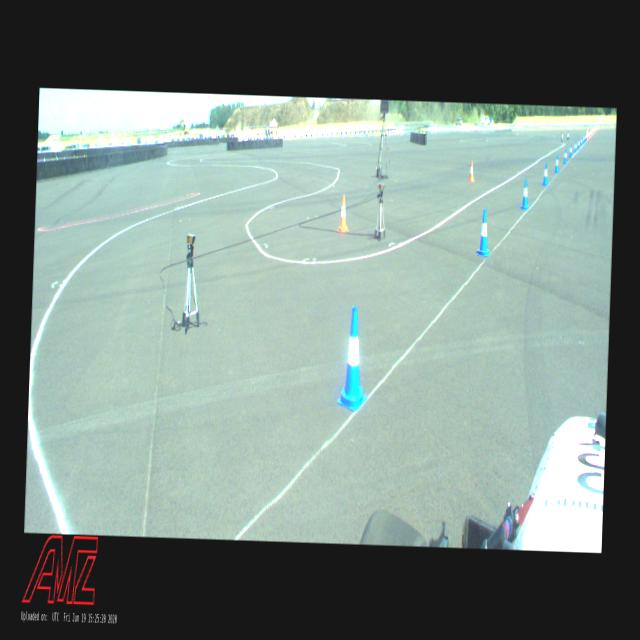blue_cone: (336, 306, 369, 410), (476, 208, 490, 256), (520, 178, 529, 210), (542, 163, 548, 186), (554, 154, 559, 172), (563, 148, 567, 164), (568, 144, 572, 158), (574, 141, 576, 152), (578, 139, 580, 149), (580, 136, 582, 146)
orange_cone: (337, 194, 349, 232), (468, 161, 475, 181)
